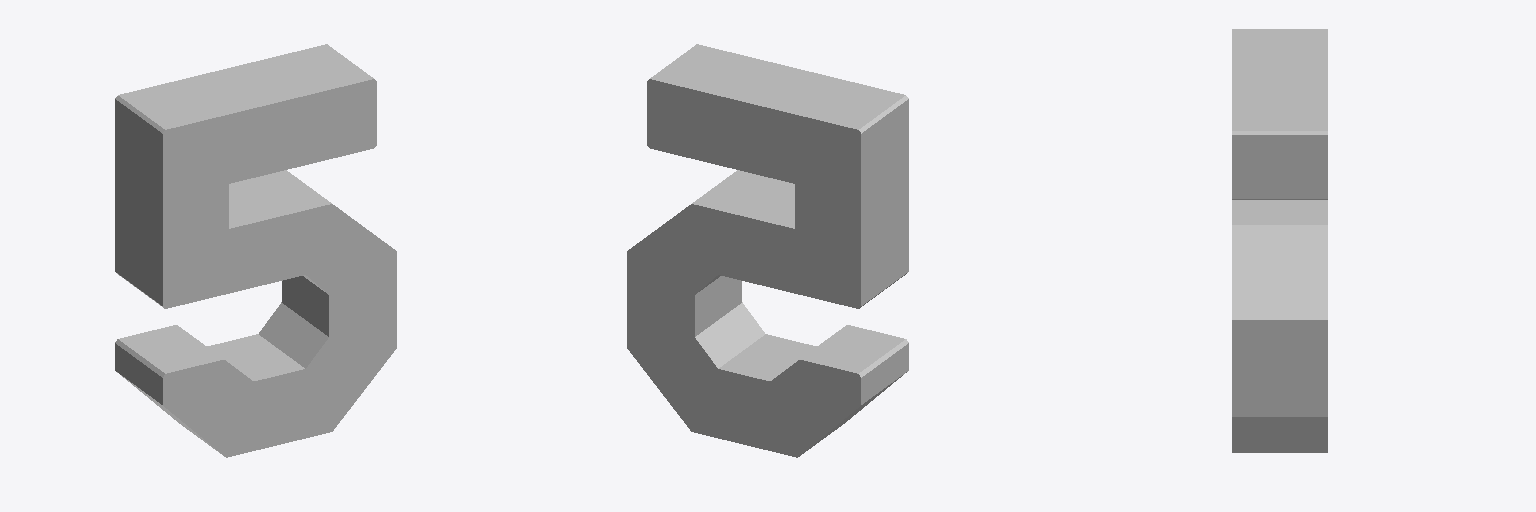
3 views of the same model, side by side, from view 1: azimuth 30°, elevation 25°; view 2: azimuth 150°, elevation 25°; view 3: azimuth 270°, elevation 25° (orthographic).
Parts seen in each view (by area): view 1: text: ABCDEFGHIJKLMNOPQRSTUVWXYZ[number redacted]; view 2: text: ABCDEFGHIJKLMNOPQRSTUVWXYZ[number redacted]; view 3: text: ABCDEFGHIJKLMNOPQRSTUVWXYZ[number redacted].
Boxes of the visible parts, x1,y1,x2,y2 form: text: ABCDEFGHIJKLMNOPQRSTUVWXYZ[number redacted]: [115, 44, 396, 457]; text: ABCDEFGHIJKLMNOPQRSTUVWXYZ[number redacted]: [627, 44, 908, 457]; text: ABCDEFGHIJKLMNOPQRSTUVWXYZ[number redacted]: [1232, 29, 1327, 452].
Bounding box in the file's own units: 71.06 × 99.29 × 25.